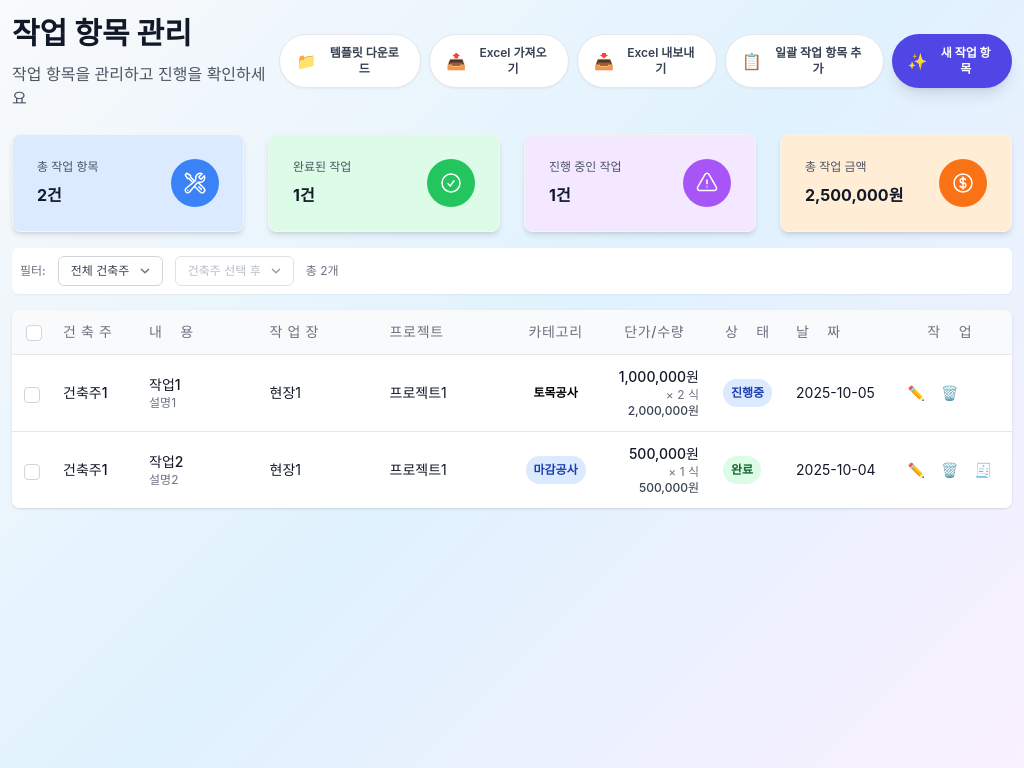
WorkItems Component › 작업 항목 추가 › 새 작업 항목 버튼 클릭 시 모달이 열림
The width and height of the screenshot is (1024, 768).
Click the text "새 작업 항목" at (966, 60), box [941,45,991,76]
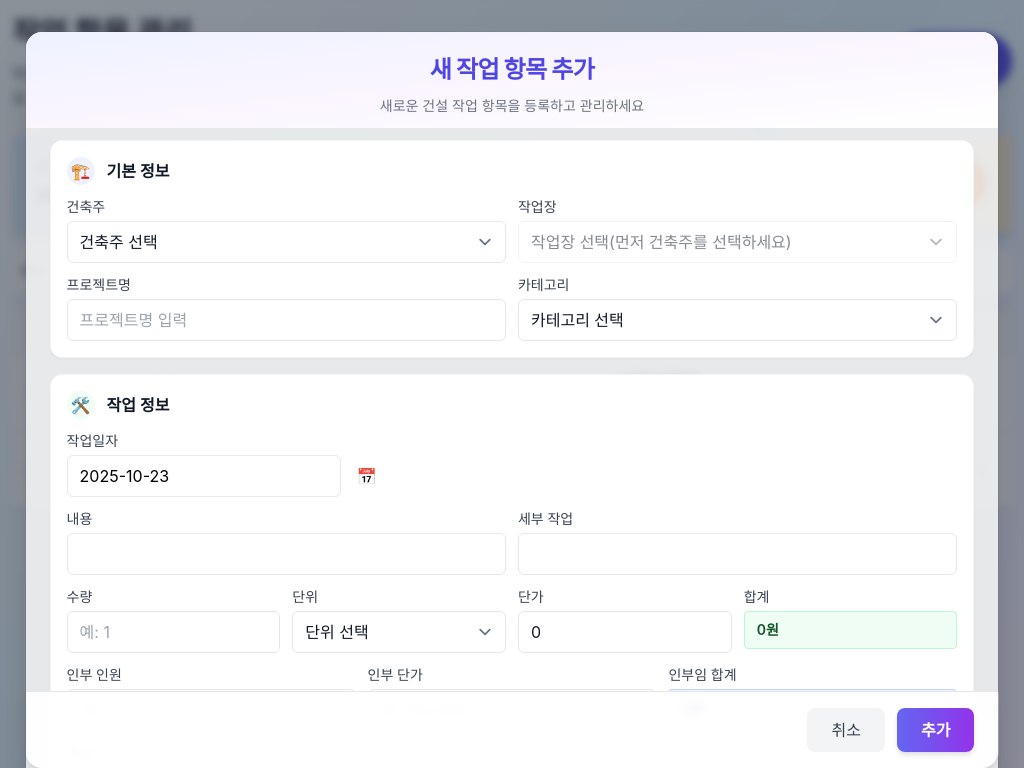
Result: the element with class "fixed" is shown
